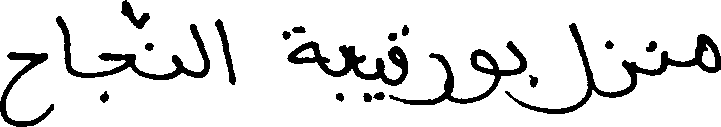ا: (214, 17, 235, 85), (55, 14, 72, 77)
ب: (504, 38, 539, 88), (332, 42, 356, 103)
ة: (280, 24, 320, 71)
ج: (97, 46, 136, 103)
ح: (0, 49, 46, 124)
ر: (418, 50, 455, 105)
ز: (604, 38, 637, 96)
ق: (385, 23, 408, 88)
ل: (526, 21, 594, 114), (188, 22, 209, 79)
م: (692, 31, 719, 73)
ن: (145, 40, 182, 79), (646, 40, 670, 75)
و: (454, 46, 499, 104)
ي: (361, 60, 387, 100)
